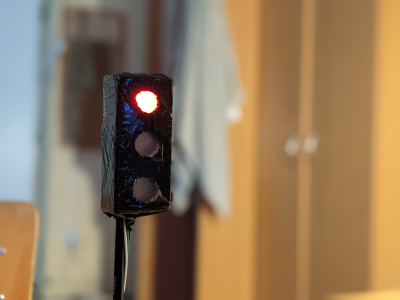trafficlight_red: (118, 76, 172, 211)
